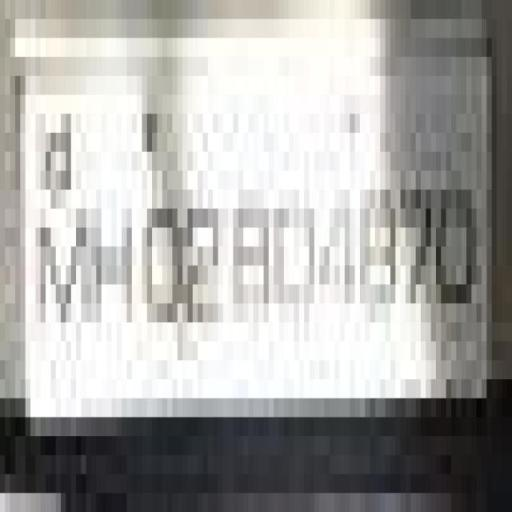number plate: (0, 19, 492, 417)
